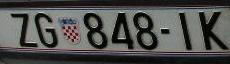-: (160, 26, 173, 36)
4: (112, 10, 135, 52)
8: (134, 9, 160, 54), (83, 12, 109, 51)
G: (35, 9, 61, 50)
I: (176, 11, 195, 52)
K: (198, 8, 230, 52)
Z: (11, 12, 37, 47)
